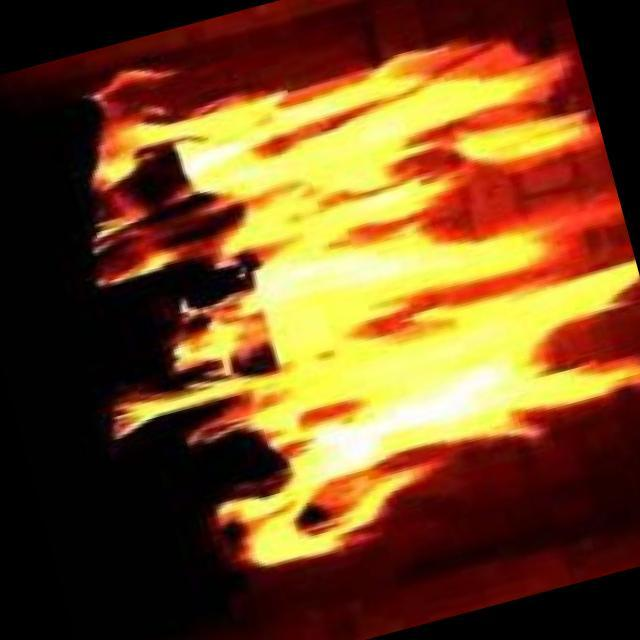Fire: (104, 36, 640, 572)
